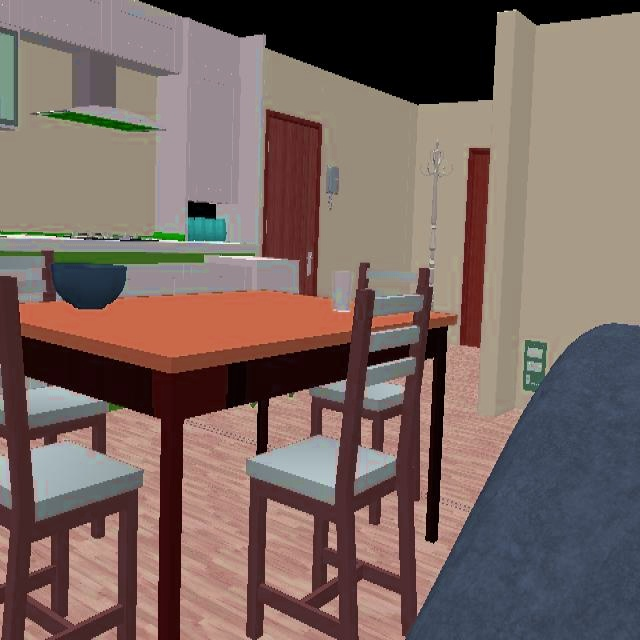chair: (245, 288, 433, 640), (0, 276, 144, 640)
stove: (44, 233, 158, 241)
table: (18, 291, 353, 640), (425, 312, 457, 544)
